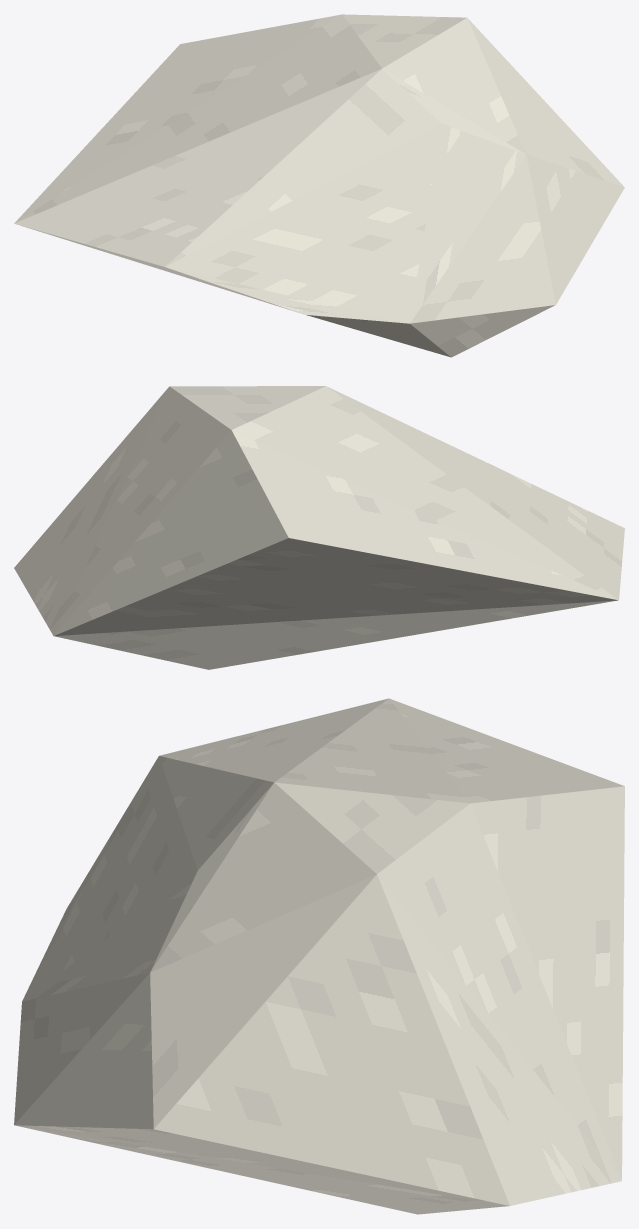
The model's file is cotton_ball.glb.
3 renders of one model, top to bottom at view 1: azimuth 30°, elevation 25°; view 2: azimuth 150°, elevation 25°; view 3: azimuth 270°, elevation 25°, orthographic. The views are drawn at different scales.
Visible parts, largest first — view 1: block_irregular fragment; view 2: block_irregular fragment; view 3: block_irregular fragment.
Boxes of the visible parts, box(x1,y1,x2,y2) form: block_irregular fragment: box(14, 14, 624, 357); block_irregular fragment: box(14, 386, 624, 669); block_irregular fragment: box(14, 698, 624, 1214).
Bounding box in the file's own units: 0.078 × 0.035 × 0.0504.
Materials: 1 (1 with a texture image).
